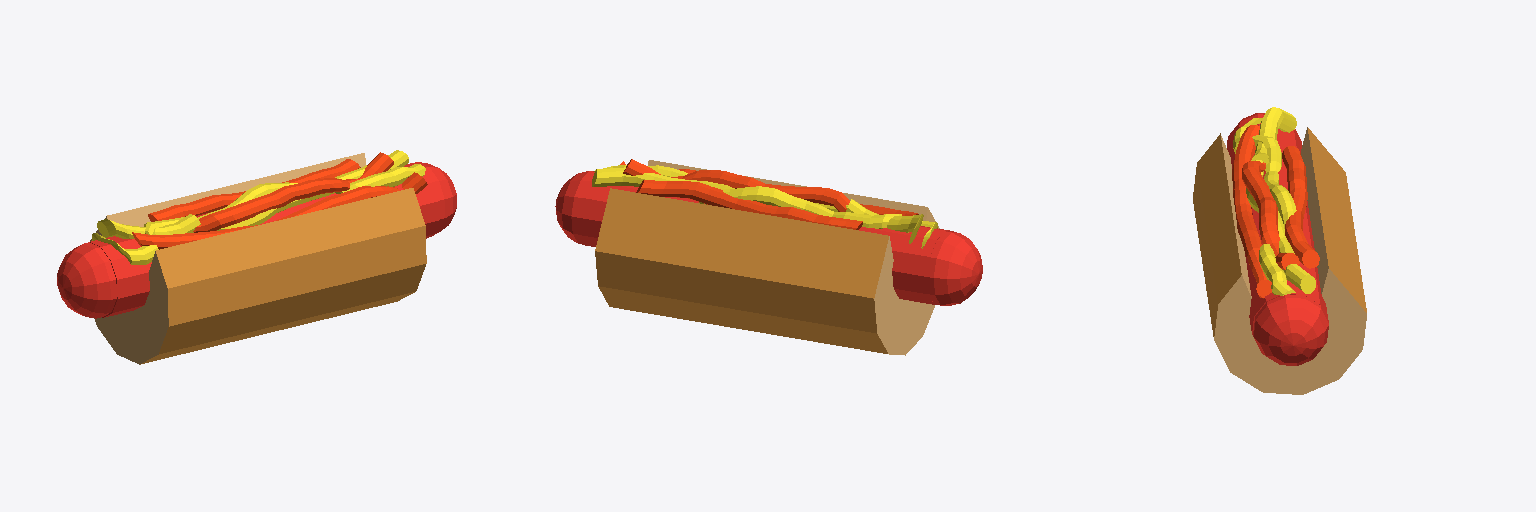
The picture shows the model from 3 angles: view 1: azimuth 30°, elevation 25°; view 2: azimuth 150°, elevation 25°; view 3: azimuth 270°, elevation 25°; orthographic projection.
Parts seen in each view (by area): view 1: group[number redacted], group[number redacted], group[number redacted], group[number redacted], group[number redacted], group[number redacted], group[number redacted], group[number redacted], group[number redacted], group[number redacted]; view 2: group[number redacted], group[number redacted], group[number redacted], group[number redacted], group[number redacted], group[number redacted], group[number redacted], group[number redacted], group[number redacted]; view 3: group[number redacted], group[number redacted], group[number redacted], group[number redacted], group[number redacted], group[number redacted], group[number redacted], group[number redacted], group[number redacted].
Boxes of the visible parts, box(x1,y1,x2,y2) form: group[number redacted]: box(90, 153, 426, 364); group[number redacted]: box(90, 163, 439, 317); group[number redacted]: box(57, 242, 116, 318); group[number redacted]: box(193, 152, 393, 232); group[number redacted]: box(92, 164, 425, 264); group[number redacted]: box(132, 172, 427, 249); group[number redacted]: box(148, 159, 360, 221); group[number redacted]: box(97, 214, 200, 238); group[number redacted]: box(413, 162, 456, 236); group[number redacted]: box(217, 150, 408, 230); group[number redacted]: box(595, 160, 939, 355); group[number redacted]: box(580, 174, 953, 304); group[number redacted]: box(927, 231, 982, 305); group[number redacted]: box(636, 180, 862, 229); group[number redacted]: box(594, 165, 937, 248); group[number redacted]: box(623, 159, 849, 211); group[number redacted]: box(555, 171, 594, 244); group[number redacted]: box(592, 167, 847, 211); group[number redacted]: box(846, 199, 923, 243); group[number redacted]: box(1193, 127, 1366, 394); group[number redacted]: box(1253, 294, 1328, 365); group[number redacted]: box(1232, 125, 1271, 298); group[number redacted]: box(1233, 118, 1296, 295); group[number redacted]: box(1227, 117, 1327, 334); group[number redacted]: box(1282, 146, 1319, 268); group[number redacted]: box(1242, 161, 1299, 269); group[number redacted]: box(1251, 107, 1296, 164); group[number redacted]: box(1246, 160, 1315, 293).
Bounding box in the file's own units: 0.2399 × 0.0857 × 0.0898.